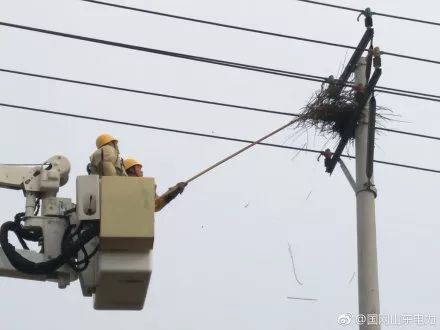bird-nest: (305, 95, 362, 127)
